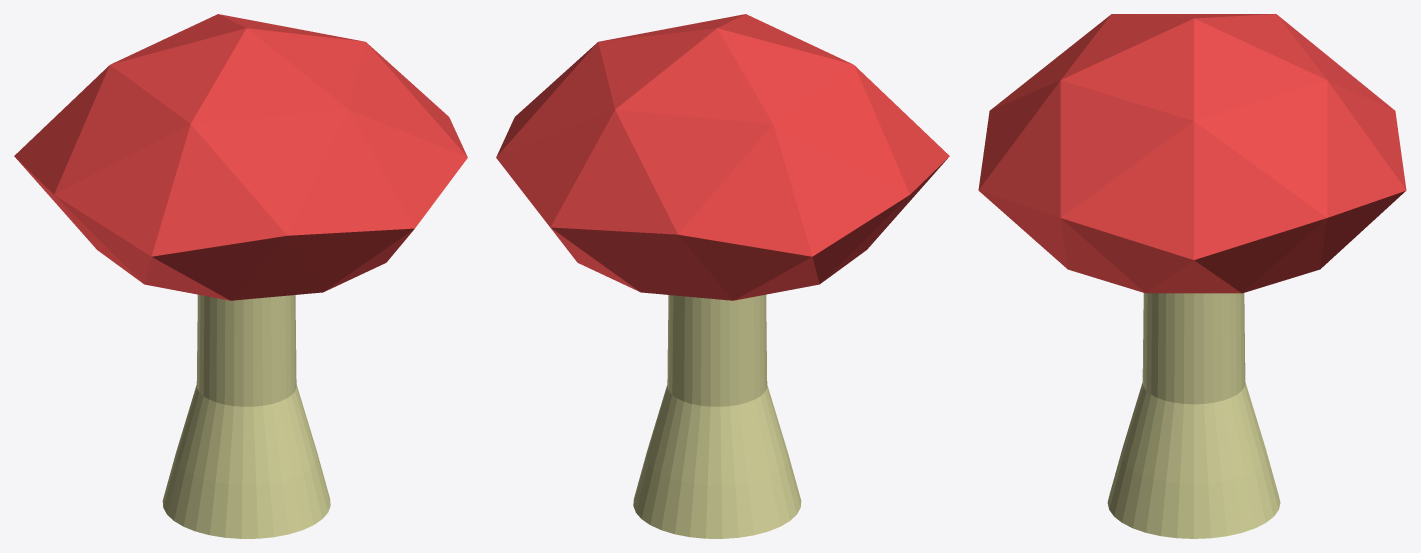
File: coloured_mushroom_.fbx
3 views of the same model, side by side, from view 1: azimuth 30°, elevation 25°; view 2: azimuth 150°, elevation 25°; view 3: azimuth 270°, elevation 25° (orthographic).
Visible parts, largest first — view 1: Cylinder.001; view 2: Cylinder.001; view 3: Cylinder.001.
Boxes of the visible parts, x1,y1,x2,y2 form: Cylinder.001: (14, 14, 467, 538); Cylinder.001: (496, 14, 949, 538); Cylinder.001: (978, 14, 1406, 538).
Size of the model in its own units: 299 by 343 by 275.
